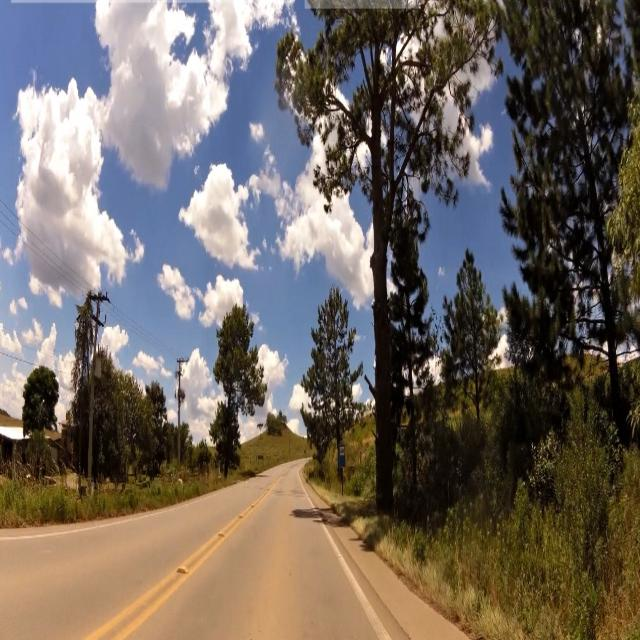S-14: (339, 444, 347, 468)
